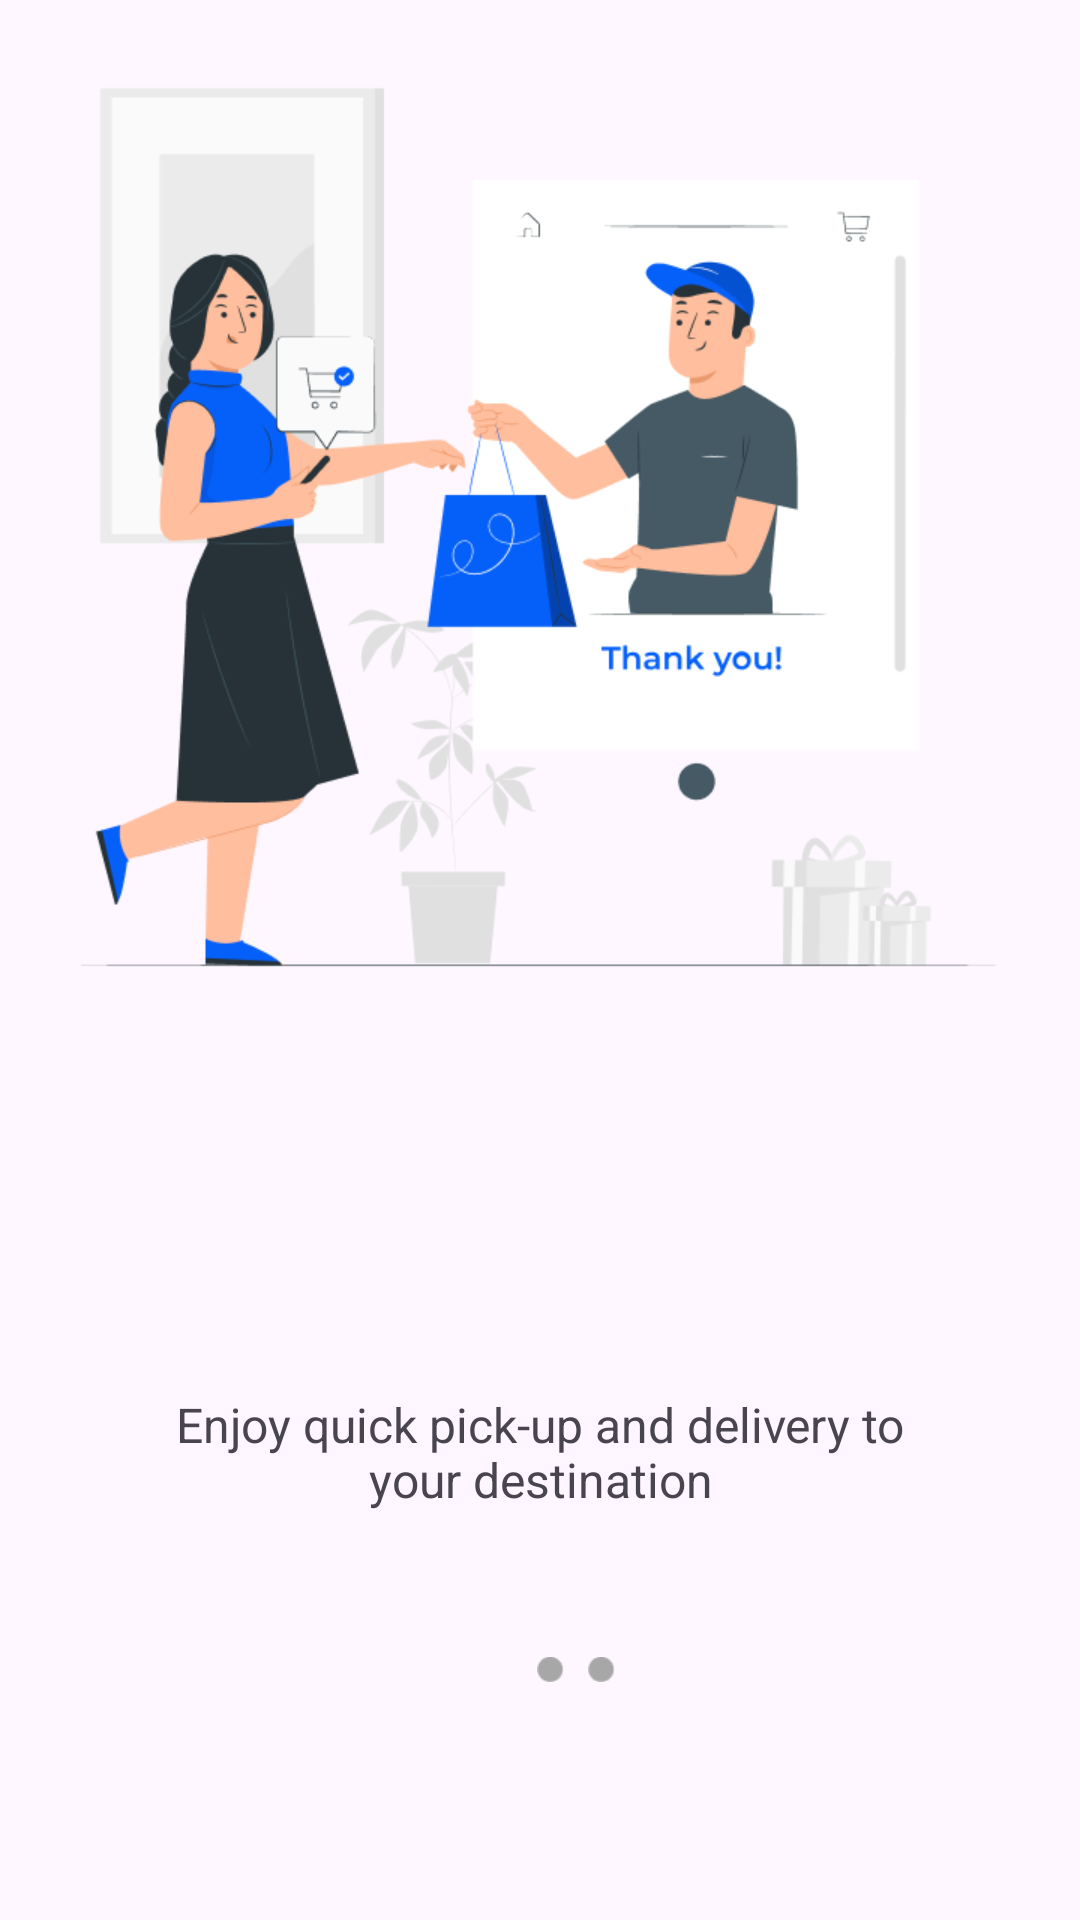

Icons on this 1080w x 1920h Android screen, each with its box as (x1, y1, x2, y2):
dot: (537, 1657, 563, 1682), (588, 1657, 614, 1682)
